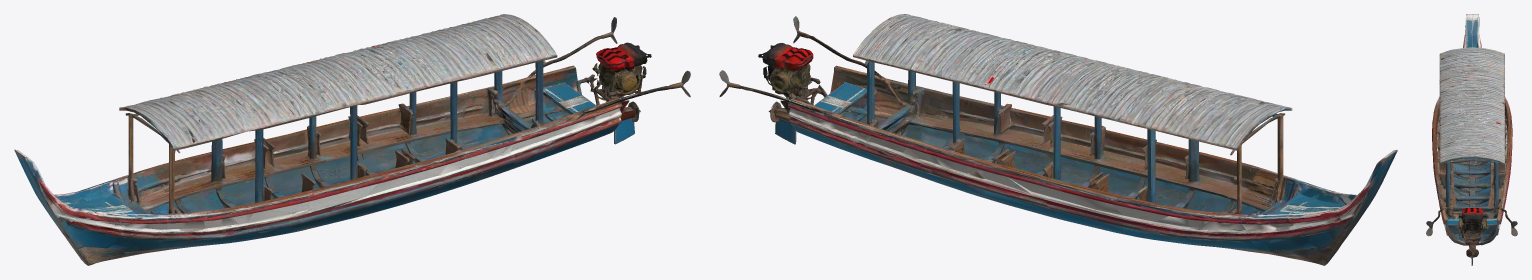
Rendered from longtail-boat.glb.
3 renders of one model, left to right at view 1: azimuth 30°, elevation 25°; view 2: azimuth 150°, elevation 25°; view 3: azimuth 270°, elevation 25°, orthographic. The views are drawn at different scales.
Parts seen in each view (by area): view 1: Mesh_0; view 2: Mesh_0; view 3: Mesh_0.
Boxes of the visible parts, box(x1,y1,x2,y2) form: Mesh_0: box(14, 14, 690, 265); Mesh_0: box(719, 14, 1397, 265); Mesh_0: box(1426, 14, 1517, 265).
Bounding box in the file's own units: 0.9995 × 0.214 × 0.2144.
1 material, 1 textured.
